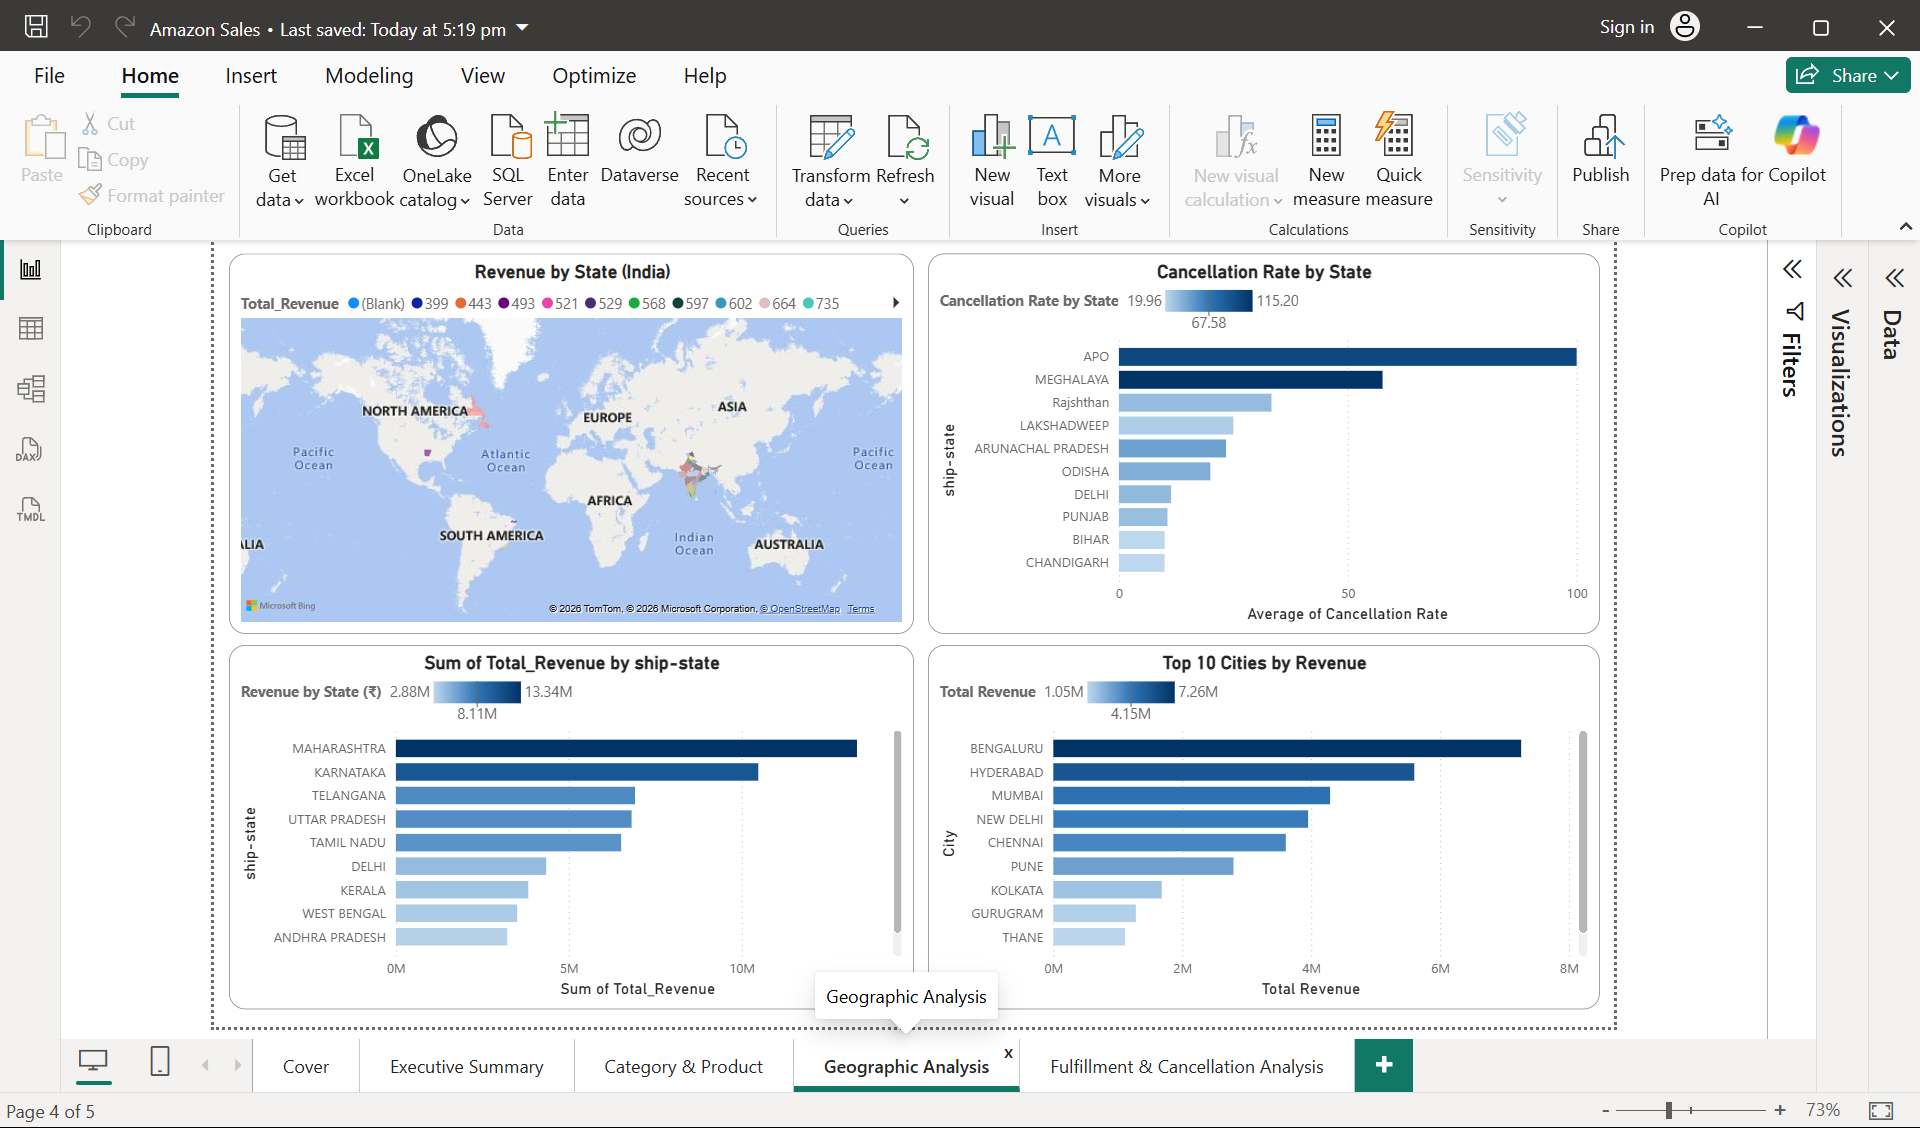

The dashboard page shown, as its layout file describes it:
{"tool":"powerbi","page":{"name":"Geographic Analysis","canvas":[1280,720],"ordinal":3},"visuals":[{"type":"filledMap","title":"Revenue by State (India)","fields":{"Category":["powerbi_state_summary.ship-state"],"Series":["powerbi_state_summary.Total_Revenue"]},"box":[13.6,12.1,626.9,348.3],"z":0},{"type":"clusteredBarChart","fields":{"Category":["powerbi_state_summary.ship-state"],"Y":["Sum(powerbi_state_summary.Total_Revenue)"]},"box":[13.6,371,626.9,333.1],"z":1000},{"type":"clusteredBarChart","title":"Cancellation Rate by State","fields":{"Category":["powerbi_state_summary.ship-state"],"Y":["Avg(powerbi_state_summary.Cancellation_Rate_Pct)"]},"box":[652.6,12.1,614.8,348.3],"z":2000},{"type":"clusteredBarChart","title":"Top 10 Cities by Revenue","fields":{"Category":["powerbi_main_data.City"],"Y":["powerbi_category_summary.Total Revenue"]},"box":[652.6,371,614.8,333.1],"z":3000}]}

Visuals, with their boxes on the page's 1280x720 design canvas (x1, y1, x2, y2). These are canvas units, not pixel positions in the 1920x1128 screenshot, which may show the page scaled, cropped or inside an application window:
"Revenue by State (India)" filledMap: (14, 12, 640, 360)
clusteredBarChart - powerbi_state_summary.ship-state x Sum(powerbi_state_summary.Total_Revenue): (14, 371, 640, 704)
"Cancellation Rate by State" clusteredBarChart: (653, 12, 1267, 360)
"Top 10 Cities by Revenue" clusteredBarChart: (653, 371, 1267, 704)
